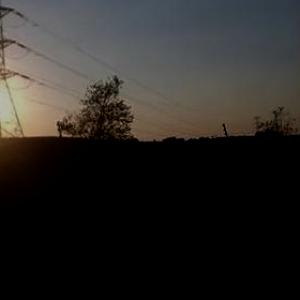follow: (108, 149, 179, 299)
